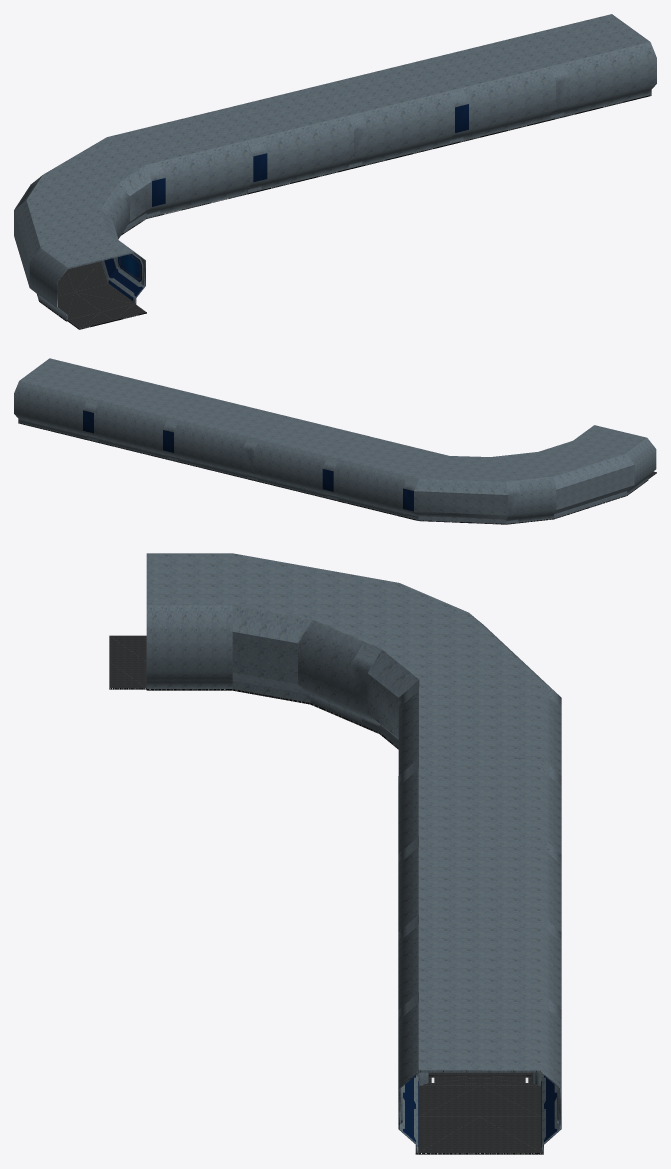
Rendered from pasillo_hall-cantina.obj.
The picture shows the model from 3 angles, top to bottom: view 1: azimuth 30°, elevation 25°; view 2: azimuth 150°, elevation 25°; view 3: azimuth 270°, elevation 25°; orthographic projection. The views are drawn at different scales.
Parts seen in each view (by area): view 1: paredes polySurface90, polySurface90, azules polySurface90; view 2: paredes polySurface90, polySurface90; view 3: polySurface90, paredes polySurface90, azules polySurface90.
Boxes of the visible parts, x1,y1,x2,y2 form: paredes polySurface90: (14, 42, 656, 320); polySurface90: (26, 14, 651, 329); azules polySurface90: (104, 258, 142, 300); paredes polySurface90: (14, 381, 656, 523); polySurface90: (18, 358, 656, 524); polySurface90: (109, 553, 543, 1154); paredes polySurface90: (146, 605, 561, 1152); azules polySurface90: (403, 1075, 556, 1147).
Size of the model in its own units: 224 by 16.86 by 81.69.
Materials: 6 (4 with a texture image).
